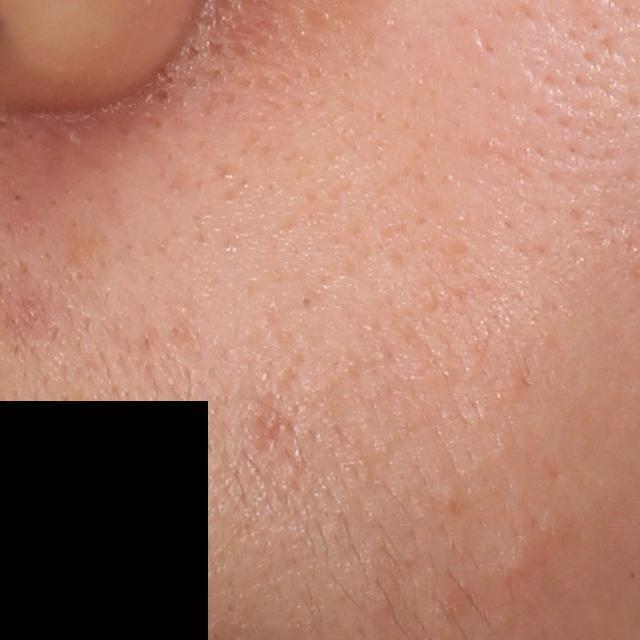comedo: (497, 543, 540, 582), (149, 85, 176, 110)
